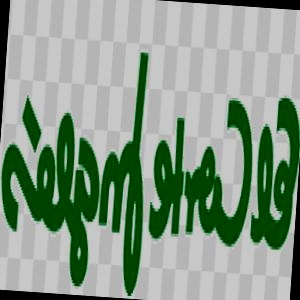corte_ingles: (297, 18, 300, 53)
